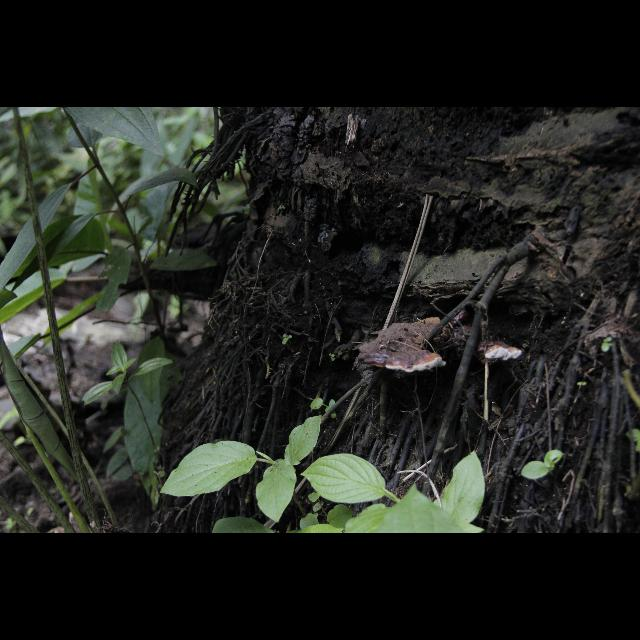ganoderma: (359, 318, 448, 374), (477, 342, 523, 363)
